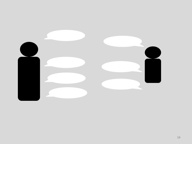left_speech: (43, 26, 86, 43), (42, 54, 88, 69), (43, 86, 88, 101), (43, 71, 88, 84)
right_speech: (99, 57, 143, 75), (101, 32, 145, 49), (99, 77, 143, 91)
